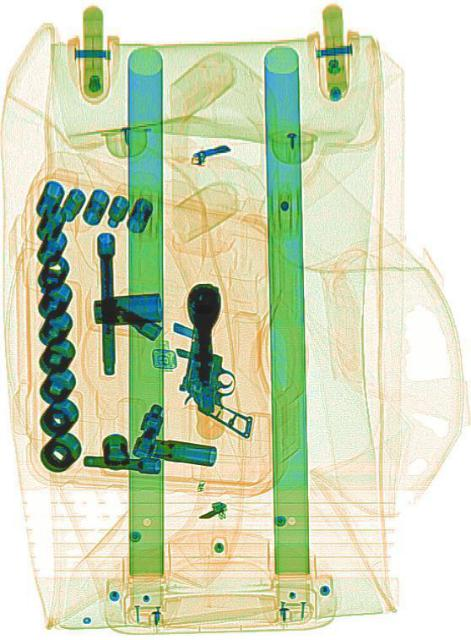Gun: (175, 283, 272, 437)
